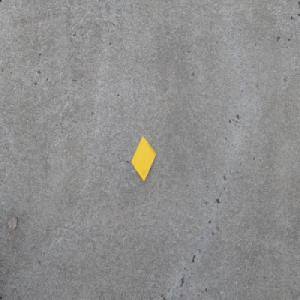PlasticPart: (130, 135, 156, 183)
